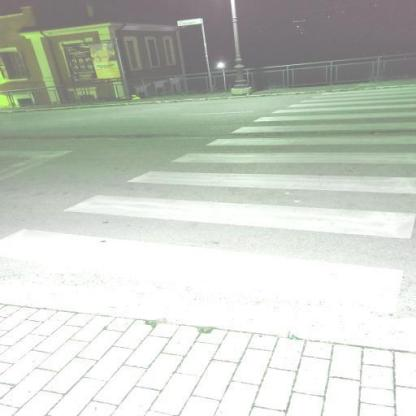crosswalk: (57, 165, 416, 242)
